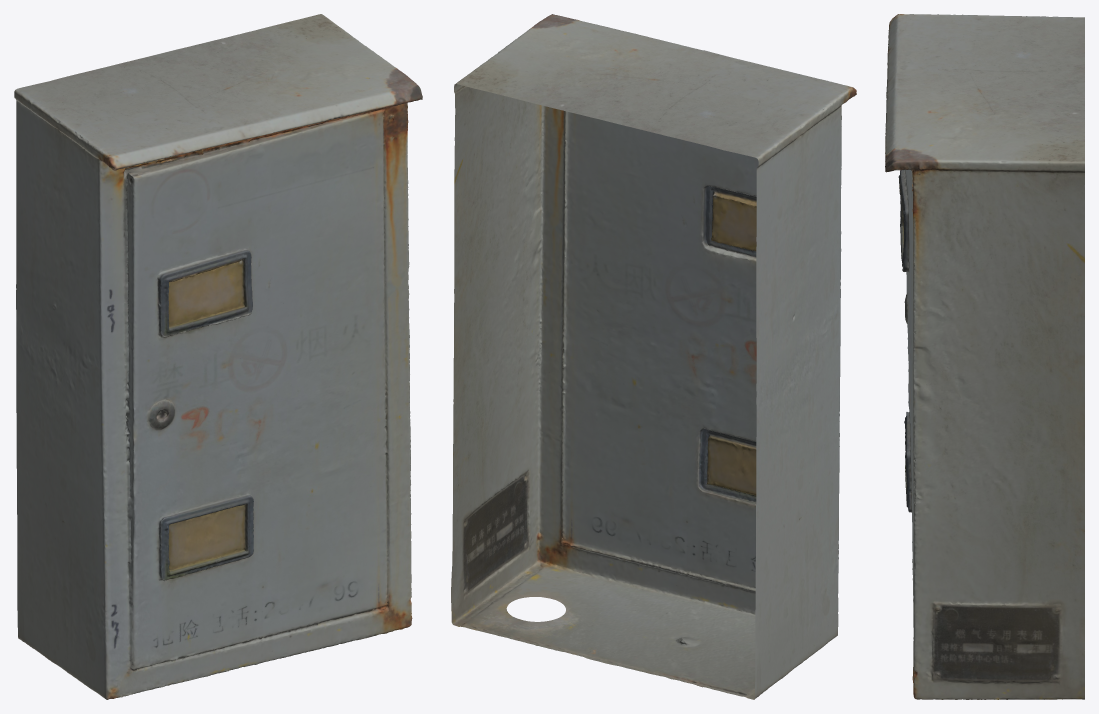
The model's file is OldPowerGrid2.fbx.
3 views of the same model, side by side, from view 1: azimuth 30°, elevation 25°; view 2: azimuth 150°, elevation 25°; view 3: azimuth 270°, elevation 25° (orthographic). The views are drawn at different scales.
Visible parts, largest first — view 1: Gas Meter Box; view 2: Gas Meter Box; view 3: Gas Meter Box.
Boxes of the visible parts, left/top/right/bottom form: Gas Meter Box: left=14, top=14, right=422, bottom=699; Gas Meter Box: left=451, top=14, right=856, bottom=699; Gas Meter Box: left=885, top=14, right=1084, bottom=699.
Bounding box in the file's own units: 55.93 × 93.9 × 31.46.
Materials: 1 (1 with a texture image).
